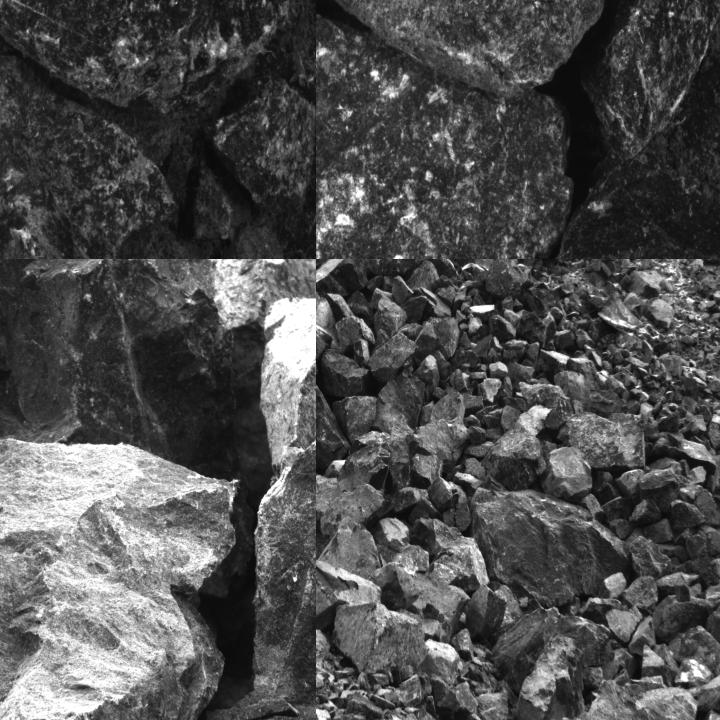stone: (0, 438, 242, 719), (316, 0, 574, 258), (0, 259, 244, 499), (0, 52, 173, 258), (0, 0, 307, 111), (316, 0, 619, 94), (542, 150, 719, 258), (472, 494, 634, 612), (596, 0, 719, 143), (210, 82, 314, 229), (258, 283, 315, 478), (512, 613, 612, 719), (331, 600, 424, 676), (554, 675, 699, 719), (557, 412, 645, 471), (316, 556, 384, 629), (189, 162, 250, 238), (320, 484, 394, 539), (483, 429, 548, 490), (318, 514, 378, 578), (407, 416, 468, 476), (373, 372, 425, 434), (653, 595, 713, 644), (542, 447, 592, 504), (338, 444, 393, 494), (367, 330, 418, 382), (320, 348, 371, 398), (368, 563, 422, 609), (668, 625, 719, 671), (466, 584, 506, 642), (413, 317, 460, 366), (332, 397, 375, 447), (316, 259, 368, 298), (645, 683, 701, 719), (373, 295, 408, 348), (630, 536, 672, 580), (674, 555, 719, 591), (484, 259, 522, 300), (622, 576, 660, 616), (555, 371, 591, 413), (336, 317, 374, 356), (689, 672, 719, 719), (605, 606, 642, 643), (656, 571, 702, 599), (413, 354, 440, 400), (674, 657, 714, 687), (411, 454, 443, 489), (628, 615, 656, 654), (406, 260, 440, 292), (362, 259, 424, 276), (670, 500, 704, 528), (415, 259, 460, 279), (596, 572, 628, 600), (628, 500, 664, 524), (348, 292, 374, 325), (429, 477, 452, 511), (316, 319, 334, 362), (705, 606, 719, 651), (316, 259, 351, 275)
